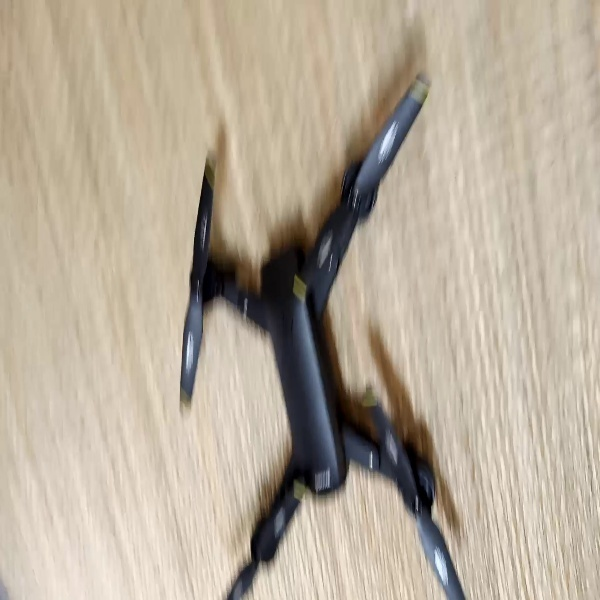drone: (163, 67, 471, 600)
